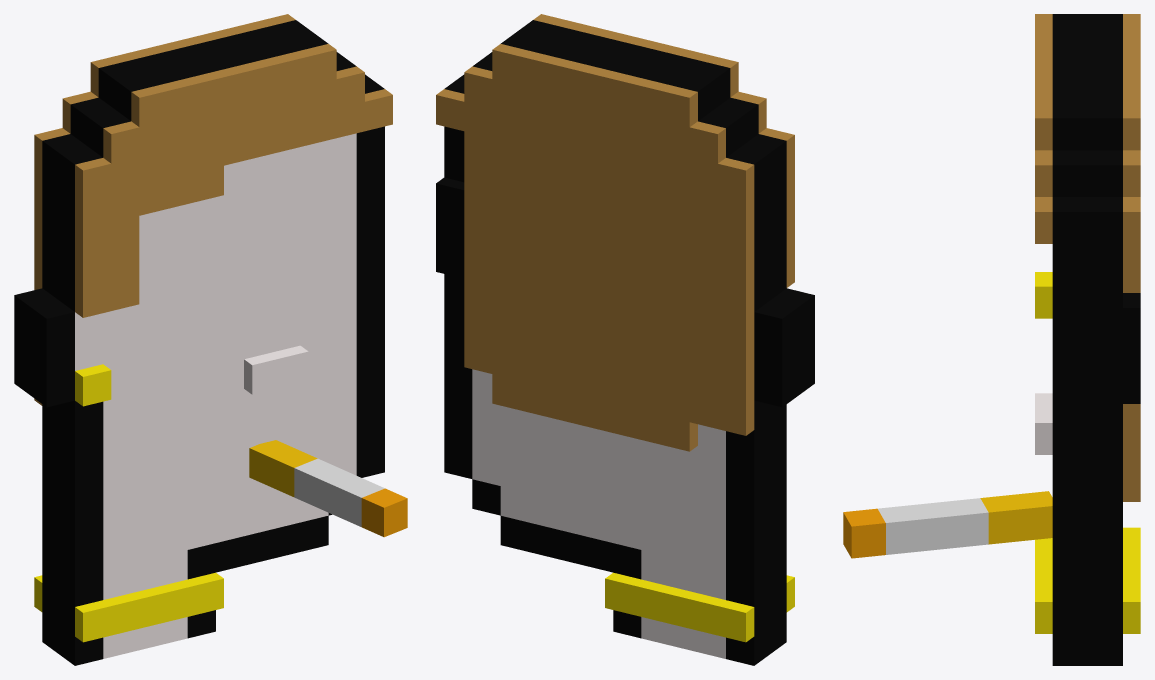
3 renders of one model, left to right at view 1: azimuth 30°, elevation 25°; view 2: azimuth 150°, elevation 25°; view 3: azimuth 270°, elevation 25°, orthographic. The views are drawn at different scales.
Parts seen in each view (by area): view 1: face_main, hair13_front, back_main, cigarette, hair13_back, jewels_necklass_straight_front, jewels_necklass_straight_neck, nose_regular_main, jewels_hearing; view 2: hair13_back, back_main, face_main, hair13_front, jewels_necklass_straight_back, glasses_ninja_back, jewels_necklass_straight_neck; view 3: face_main, back_main, cigarette, hair13_back, hair13_front, jewels_necklass_straight_neck (×2), glasses_ninja_back, nose_regular_main, jewels_hearing, jewels_necklass_straight_front, jewels_necklass_straight_back.
Part boxes in pixels (x1,y1,x2,y2): face_main: [30, 32, 384, 665]; hair13_front: [75, 44, 392, 317]; back_main: [14, 20, 367, 653]; cigarette: [249, 440, 407, 537]; hair13_back: [34, 14, 295, 405]; jewels_necklass_straight_front: [103, 579, 195, 635]; jewels_necklass_straight_neck: [75, 572, 223, 642]; nose_regular_main: [244, 345, 308, 394]; jewels_hearing: [75, 364, 111, 406]; hair13_back: [436, 44, 754, 451]; back_main: [444, 32, 798, 665]; face_main: [461, 20, 814, 653]; hair13_front: [533, 14, 794, 287]; jewels_necklass_straight_back: [633, 579, 725, 635]; glasses_ninja_back: [436, 177, 464, 278]; jewels_necklass_straight_neck: [605, 572, 754, 642]; face_main: [1052, 14, 1087, 665]; back_main: [1088, 14, 1122, 665]; cigarette: [843, 491, 1052, 558]; hair13_back: [1123, 14, 1140, 501]; hair13_front: [1035, 14, 1052, 243]; jewels_necklass_straight_neck (×2): [1035, 527, 1140, 633]; glasses_ninja_back: [1123, 293, 1140, 403]; nose_regular_main: [1035, 393, 1052, 454]; jewels_hearing: [1035, 272, 1052, 318]; jewels_necklass_straight_front: [1035, 542, 1052, 587]; jewels_necklass_straight_back: [1123, 542, 1140, 587].
Size of the model in its own units: 12 by 19 by 8.44.
